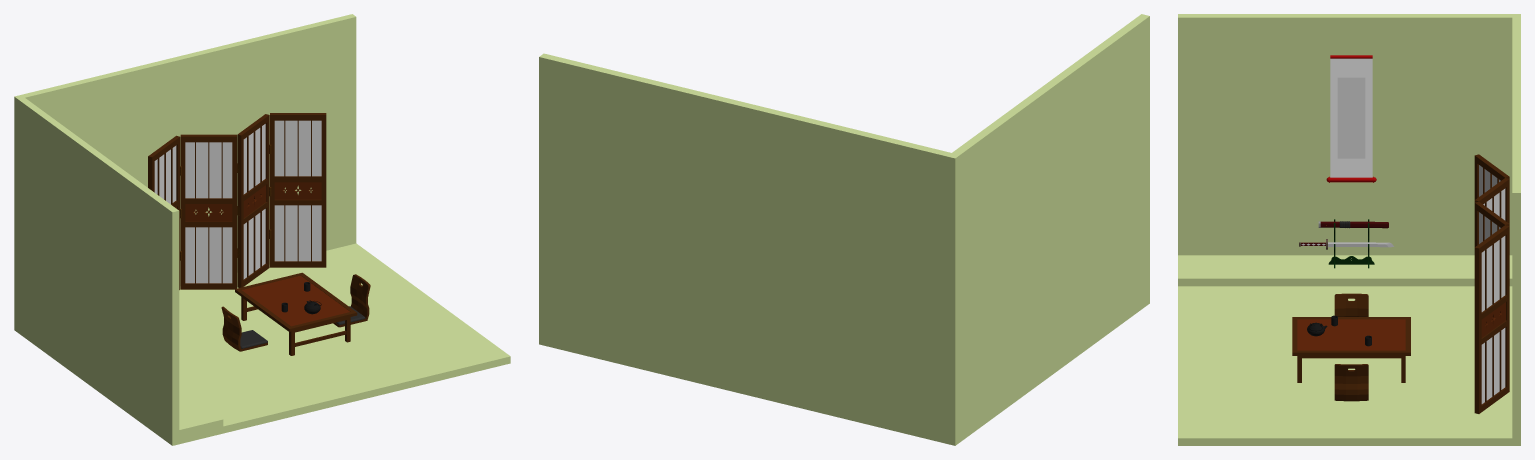
Rendered from JapanStyleRoom.fbx.
3 views of the same model, side by side, from view 1: azimuth 30°, elevation 25°; view 2: azimuth 150°, elevation 25°; view 3: azimuth 270°, elevation 25° (orthographic). The views are drawn at different scales.
Visible parts, largest first — view 1: _Plane, PartitionScreen, Table, Chair.001, Chair.002; view 2: _Plane; view 3: _Plane, PartitionScreen, HangingPicture, Table, Chair.002, Chair.001, SwordStand, SwordCover, Sword.
Boxes of the visible parts, x1,y1,x2,y2 form: _Plane: (14, 14, 510, 445); PartitionScreen: (148, 113, 326, 289); Table: (235, 272, 357, 355); Chair.001: (221, 306, 267, 351); Chair.002: (333, 274, 370, 327); _Plane: (539, 14, 1149, 445); _Plane: (1178, 14, 1520, 445); PartitionScreen: (1474, 154, 1509, 413); HangingPicture: (1326, 55, 1376, 182); Table: (1292, 317, 1410, 382); Chair.002: (1334, 364, 1368, 401); Chair.001: (1334, 293, 1368, 316); SwordStand: (1328, 219, 1374, 268); SwordCover: (1318, 221, 1388, 228); Sword: (1299, 239, 1393, 249).
Bounding box in the file's own units: 25 × 16.5 × 20.25.
